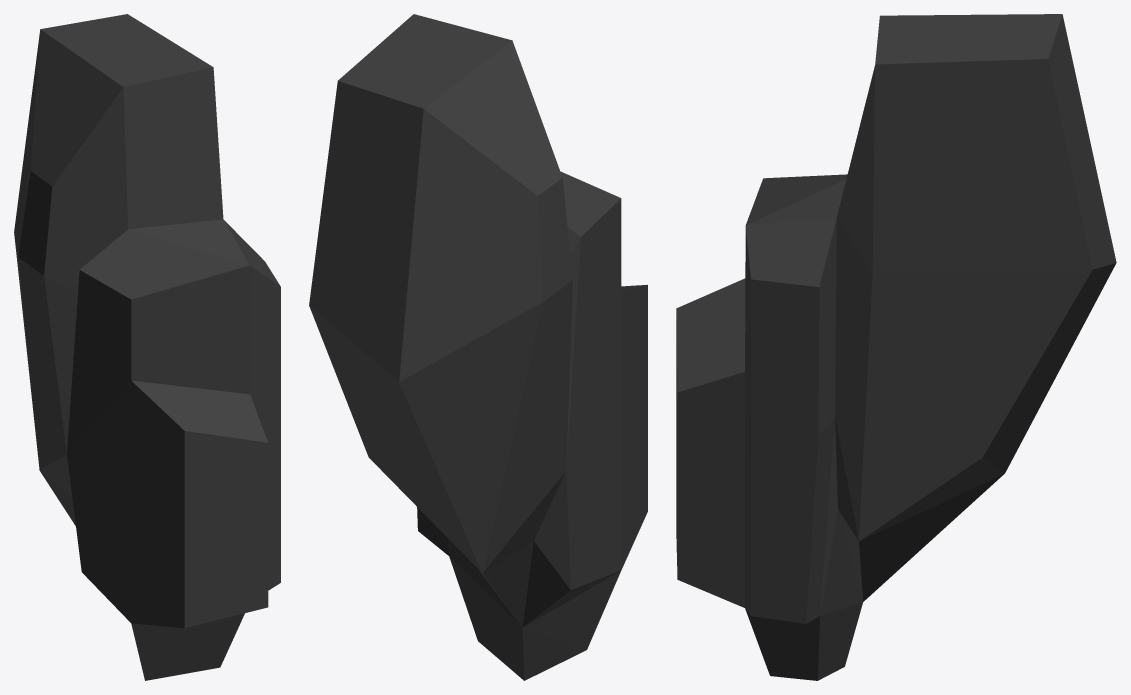
File: EdgedRockfbx.fbx
3 renders of one model, left to right at view 1: azimuth 30°, elevation 25°; view 2: azimuth 150°, elevation 25°; view 3: azimuth 270°, elevation 25°, orthographic. The views are drawn at different scales.
Parts seen in each view (by area): view 1: EdgedRock; view 2: EdgedRock; view 3: EdgedRock.
Boxes of the visible parts, left/top/right/bottom form: EdgedRock: left=14, top=14, right=280, bottom=680; EdgedRock: left=309, top=14, right=647, bottom=680; EdgedRock: left=676, top=14, right=1116, bottom=680.
Bounding box in the file's own units: 321 × 967 × 595.
